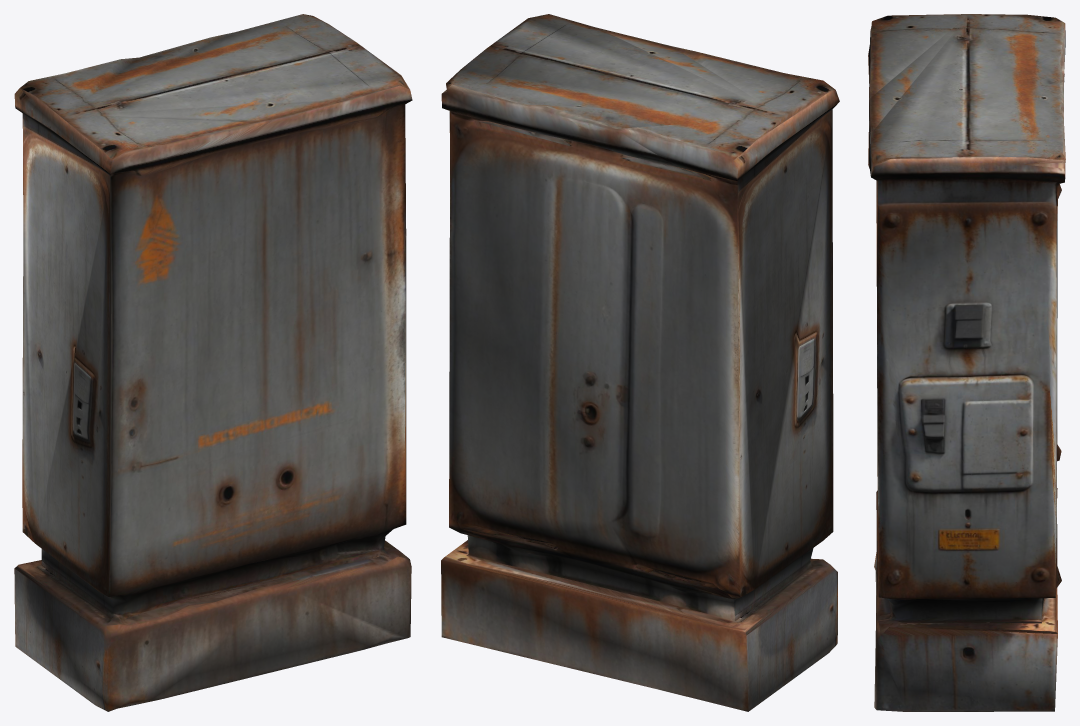
File: Elektrik 1,1.fbx
The picture shows the model from 3 angles, left to right: view 1: azimuth 30°, elevation 25°; view 2: azimuth 150°, elevation 25°; view 3: azimuth 270°, elevation 25°; orthographic projection.
Parts seen in each view (by area): view 1: elektrik_LOD0; view 2: elektrik_LOD0; view 3: elektrik_LOD0.
Part boxes in pixels (x1=…): elektrik_LOD0: x1=14, y1=14, x2=412, y2=711; elektrik_LOD0: x1=441, y1=14, x2=839, y2=711; elektrik_LOD0: x1=868, y1=14, x2=1065, y2=711.
Size of what is drawn, in the model's own units: 114 by 199 by 64.48.
